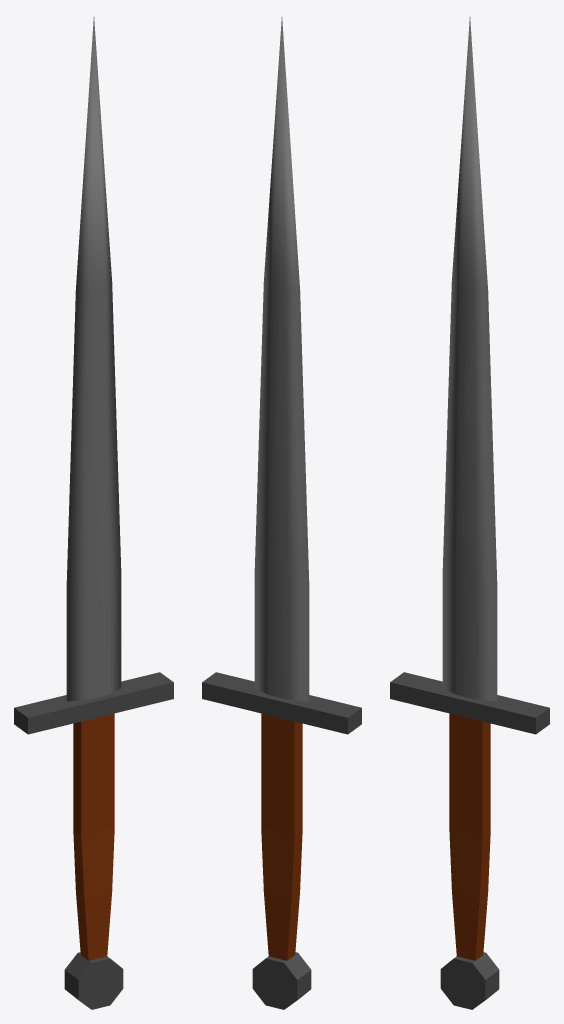
The model's file is straight_sword.glb.
The picture shows the model from 3 angles, left to right: view 1: azimuth 30°, elevation 25°; view 2: azimuth 150°, elevation 25°; view 3: azimuth 330°, elevation 25°; orthographic projection.
Parts seen in each view (by area): view 1: Cylinder; view 2: Cylinder; view 3: Cylinder.
Part boxes in pixels (x1,y1,x2,y2): Cylinder: (14, 16, 173, 1009); Cylinder: (202, 16, 361, 1009); Cylinder: (390, 16, 549, 1009).
Size of the model in its own units: 0.1495 by 0.9683 by 0.0249.
